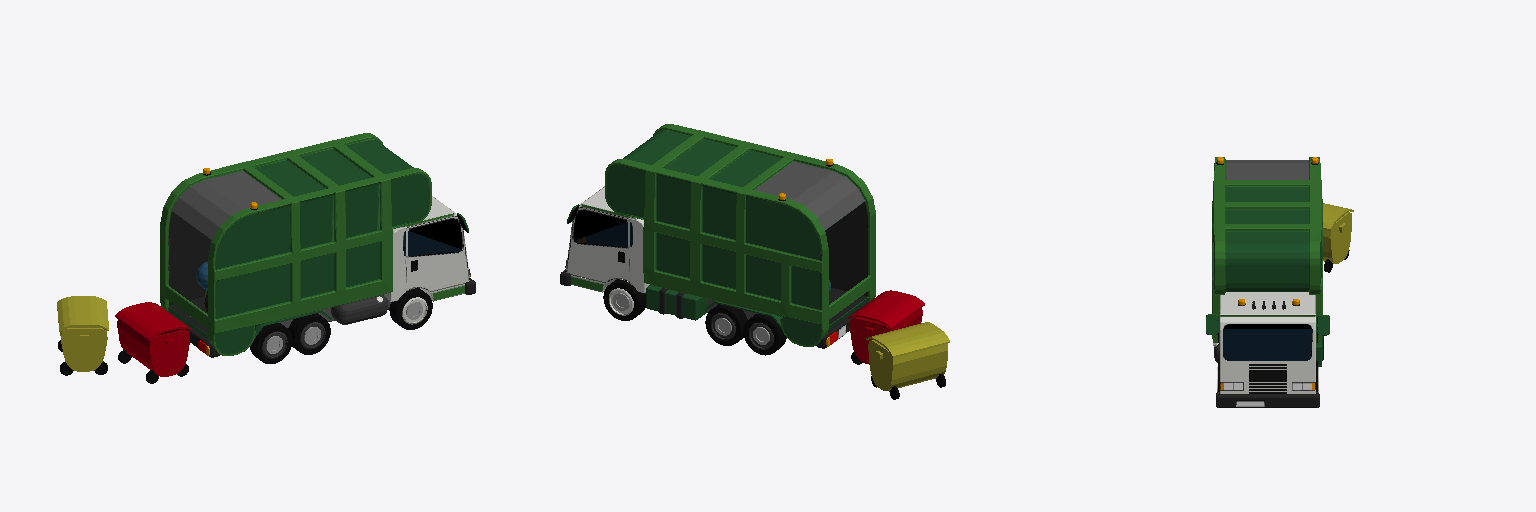
3 views of the same model, side by side, from view 1: azimuth 30°, elevation 25°; view 2: azimuth 150°, elevation 25°; view 3: azimuth 270°, elevation 25° (orthographic).
Visible parts, largest first — view 1: TRUSK_TRUCK_MODEL_Mesh.002; view 2: TRUSK_TRUCK_MODEL_Mesh.002; view 3: TRUSK_TRUCK_MODEL_Mesh.002.
Boxes of the visible parts, box(x1,y1,x2,y2) form: TRUSK_TRUCK_MODEL_Mesh.002: box(57, 133, 475, 383); TRUSK_TRUCK_MODEL_Mesh.002: box(560, 124, 949, 399); TRUSK_TRUCK_MODEL_Mesh.002: box(1206, 157, 1353, 407).
Bounding box in the file's own units: 21.08 × 8.75 × 7.15.
3 materials, 1 textured.